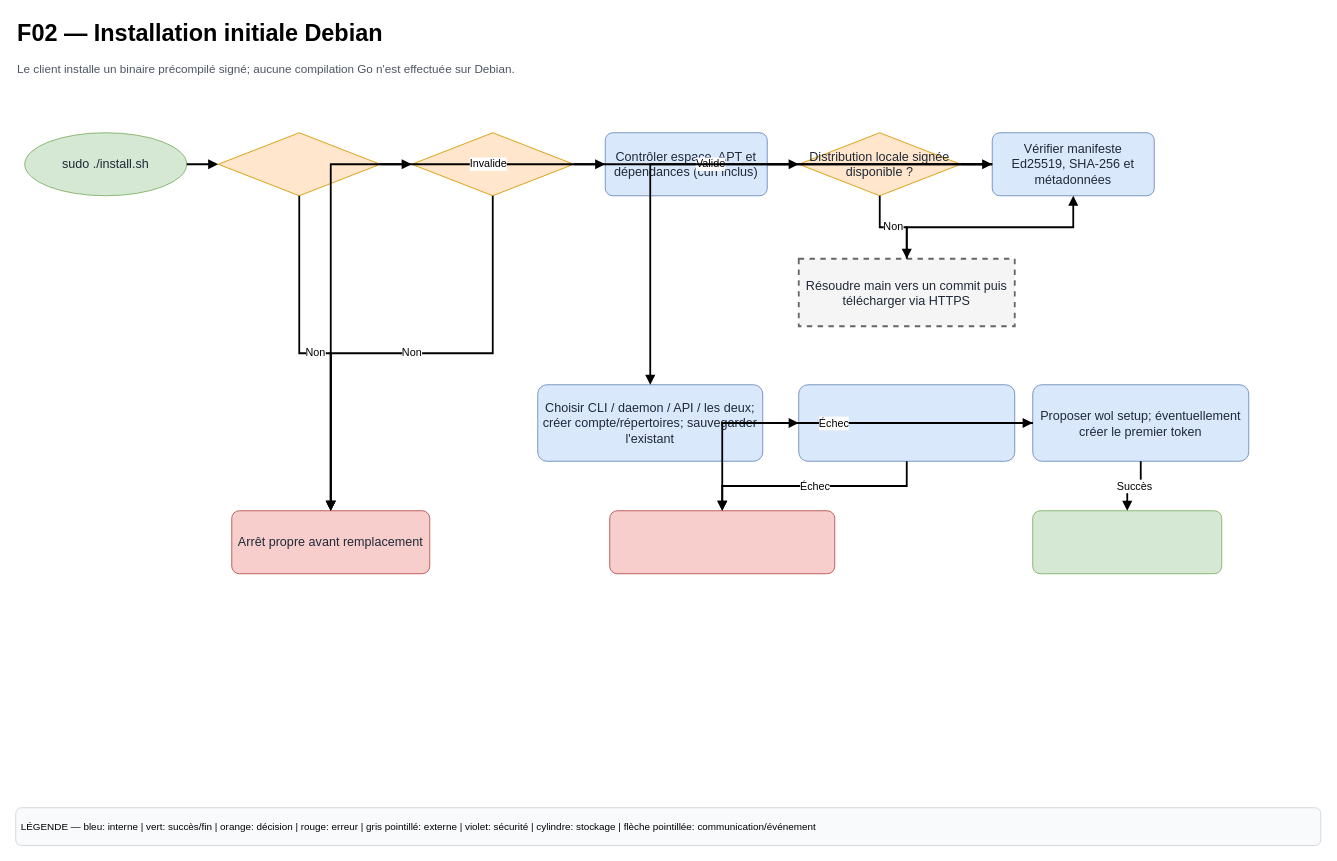
Image size: 1337x861. Some labels were removed from this diagram. The shapes that lost their labels are listed below. From the top down, each one's centre as x and y in pixels, then its label:
At pixel 298 164: "Root ? Debian 12/13 ?".
At pixel 492 164: "Architecture amd64/arm64 ?".
At pixel 906 422: "Installer binaire + installateur + complétion par renommage".
At pixel 722 542: "Échec après sauvegarde → rollback automatique".
At pixel 1127 542: "Version/config/service vérifiés".
